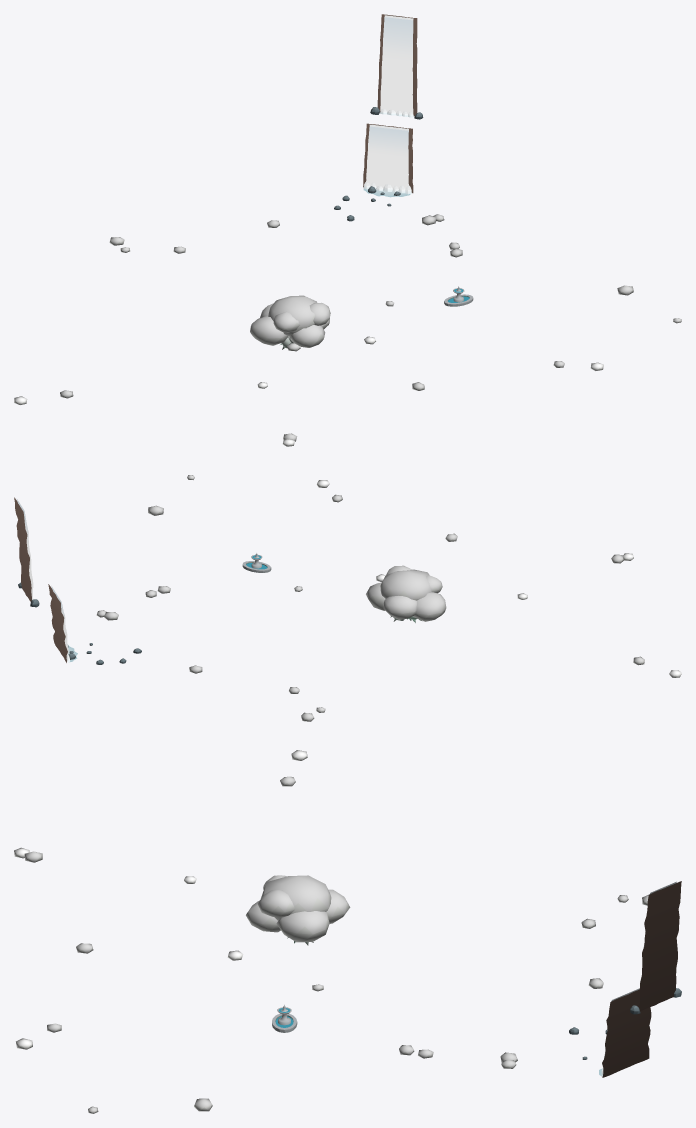
The model's file is aero-kit.fbx.
The picture shows the model from 3 angles, top to bottom: view 1: azimuth 30°, elevation 25°; view 2: azimuth 150°, elevation 25°; view 3: azimuth 270°, elevation 25°; orthographic projection. The views are drawn at different scales.
Parts seen in each view (by area): view 1: W7_Kit_Falls__kitwater, W7_Kit_Crown_Hatch__foliage, W7_Kit_Rest__foliage, W7_Kit_Falls__kitfoam; view 2: W7_Kit_Crown_Hatch__foliage, W7_Kit_Falls__kitwater, W7_Kit_Rest__foliage; view 3: W7_Kit_Falls__kitwater, W7_Kit_Crown_Hatch__foliage, W7_Kit_Rest__foliage, W7_Kit_Rest__foliage_blossom.
Boxes of the visible parts, x1,y1,x2,y2 form: W7_Kit_Falls__kitwater: [334, 14, 423, 221]; W7_Kit_Crown_Hatch__foliage: [250, 295, 330, 347]; W7_Kit_Rest__foliage: [60, 214, 681, 441]; W7_Kit_Falls__kitfoam: [363, 15, 413, 197]; W7_Kit_Crown_Hatch__foliage: [366, 565, 446, 621]; W7_Kit_Falls__kitwater: [14, 497, 141, 664]; W7_Kit_Rest__foliage: [96, 475, 644, 721]; W7_Kit_Falls__kitwater: [569, 881, 681, 1077]; W7_Kit_Crown_Hatch__foliage: [246, 875, 350, 942]; W7_Kit_Rest__foliage: [24, 776, 648, 1113]; W7_Kit_Rest__foliage_blossom: [14, 750, 307, 1049].
Size of the model in its own units: 18958 by 5029 by 14865.
